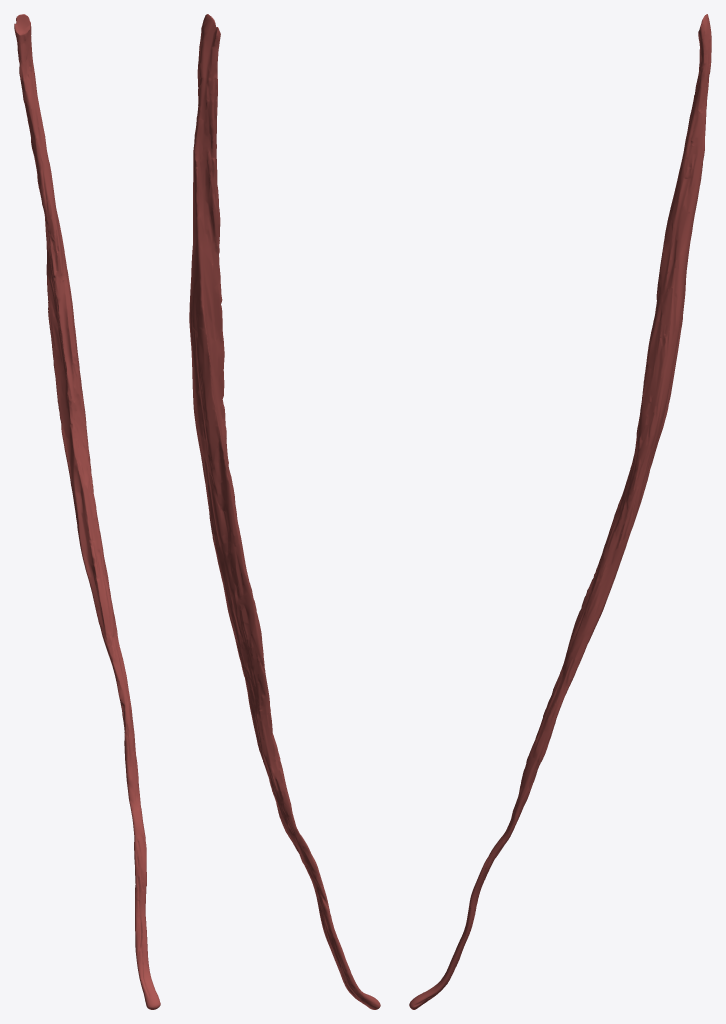
The model's file is FMA38505.glb.
3 views of the same model, side by side, from view 1: azimuth 30°, elevation 25°; view 2: azimuth 150°, elevation 25°; view 3: azimuth 270°, elevation 25° (orthographic). The views are drawn at different scales.
Parts seen in each view (by area): view 1: FMA38505; view 2: FMA38505; view 3: FMA38505.
Part boxes in pixels (bbox=[...]): FMA38505: bbox=[14, 14, 160, 1009]; FMA38505: bbox=[189, 14, 380, 1009]; FMA38505: bbox=[409, 14, 711, 1009].
Bounding box in the file's own units: 0.0163 × 0.3253 × 0.0896.
